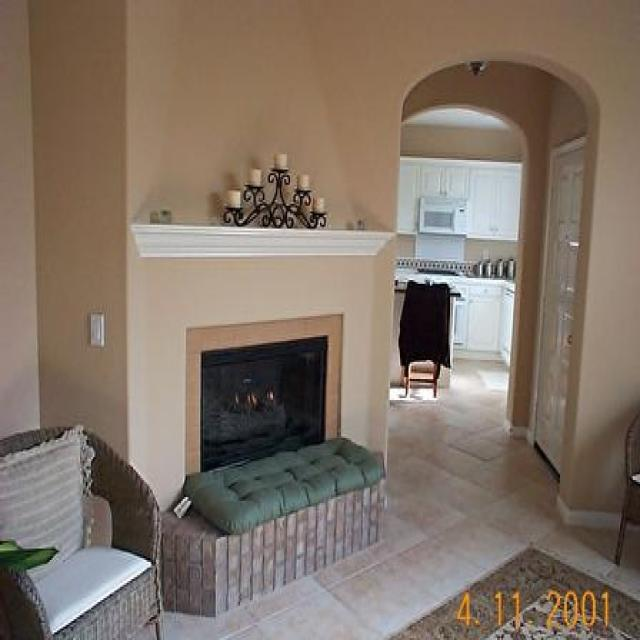chair: (0, 421, 166, 638), (400, 282, 451, 400), (612, 409, 638, 564)
